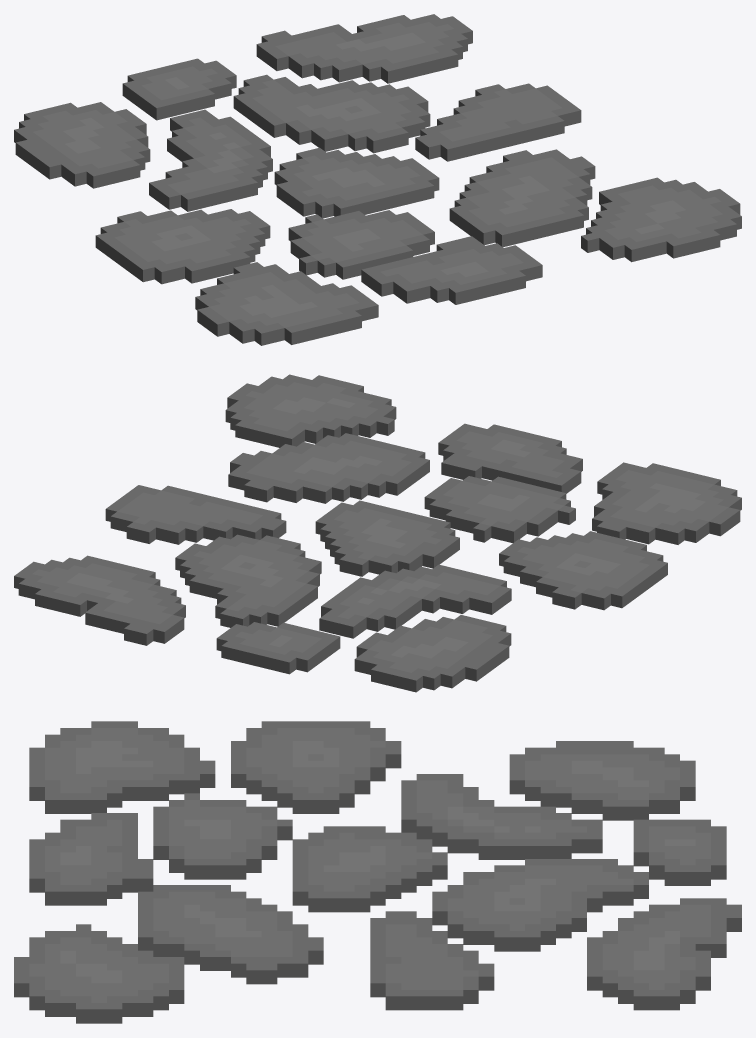
File: Trail1.obj
The picture shows the model from 3 angles, top to bottom: view 1: azimuth 30°, elevation 25°; view 2: azimuth 150°, elevation 25°; view 3: azimuth 270°, elevation 25°; orthographic projection. The views are drawn at different scales.
Bounding box in the file's own units: 4.4 × 0.1 × 4.7.
Materials: 1 (1 with a texture image).
